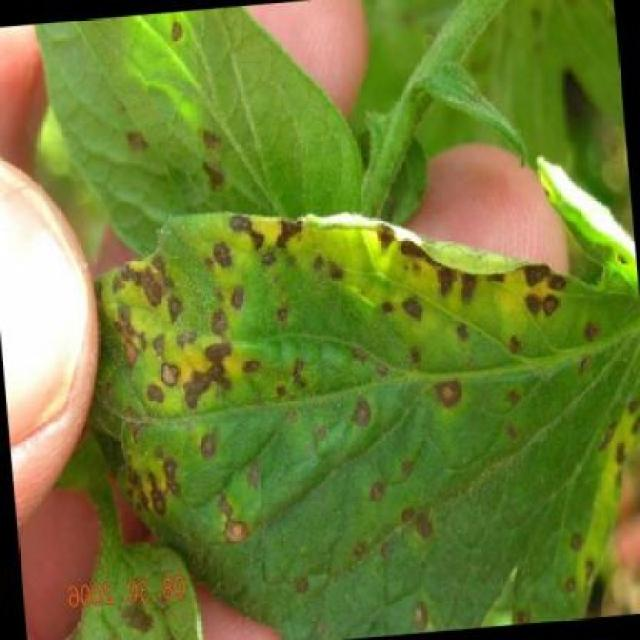Septoria leaf spot: (67, 202, 640, 635)
